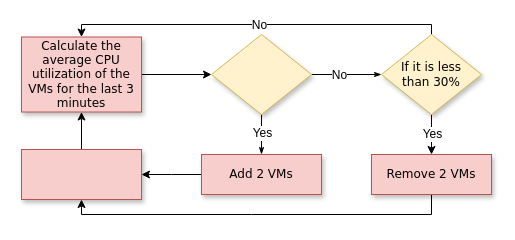
Image size: 515x240. Some labels were removed from this diagram. Here are the shapes that lost their labels. From the top down, the centre of each, then its label:
(262,76): If it exceeds 80%
(82,175): Enter a cooldown period of 60 minutes
